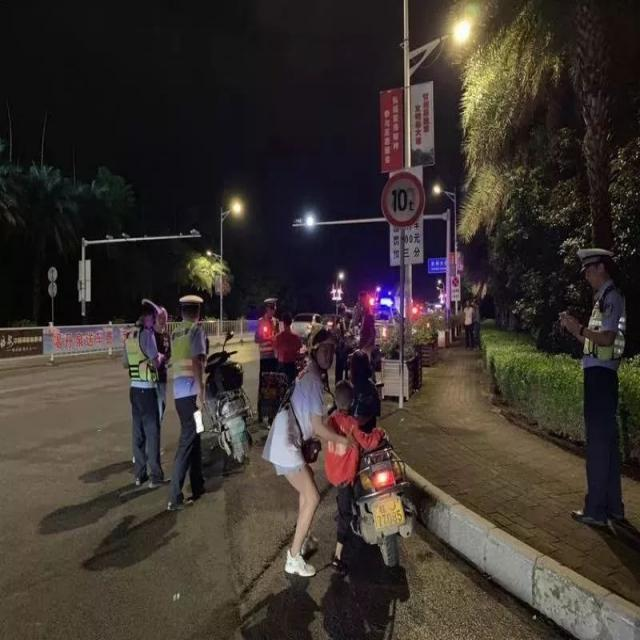Reflective-Jacket: (580, 285, 630, 367), (166, 319, 211, 402), (120, 330, 162, 392)
